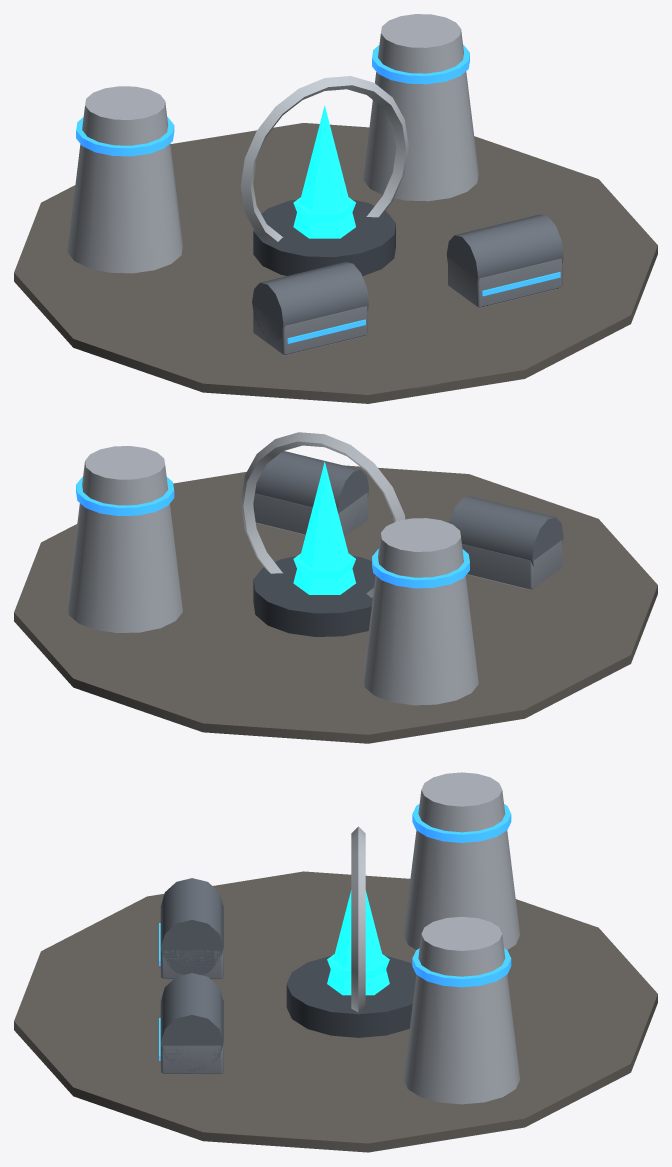
The model's file is district_scifi_c_blue.glb.
3 views of the same model, one above another, from view 1: azimuth 30°, elevation 25°; view 2: azimuth 150°, elevation 25°; view 3: azimuth 270°, elevation 25° (orthographic).
Parts seen in each view (by area): view 1: district_scifi_c_blue; view 2: district_scifi_c_blue; view 3: district_scifi_c_blue.
Part boxes in pixels (box(x1,y1,x2,y2)): district_scifi_c_blue: box(14, 14, 657, 403); district_scifi_c_blue: box(14, 432, 657, 743); district_scifi_c_blue: box(14, 772, 657, 1152).
Bounding box in the file's own units: 1.43 × 0.506 × 1.43.
Materials: 3 (1 with a texture image).
